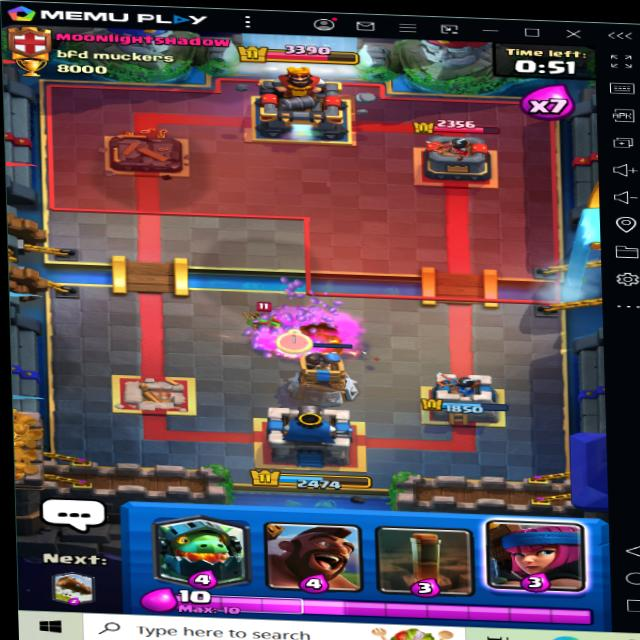spear-goblin: (240, 304, 281, 335)
